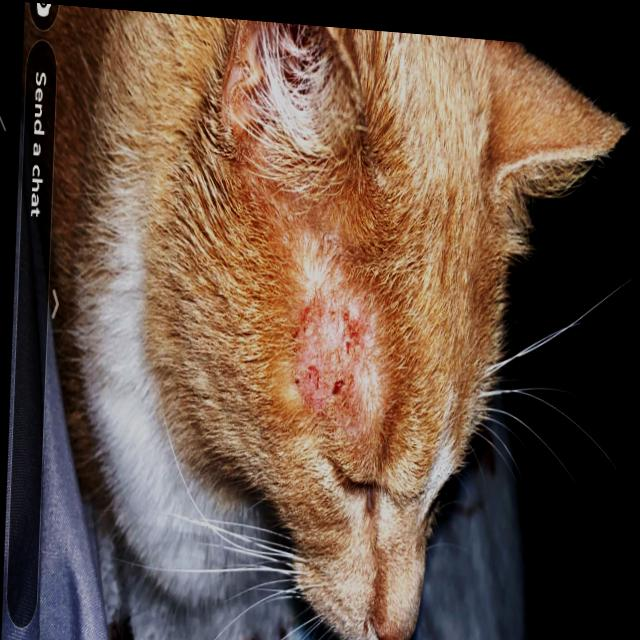ringworm: (290, 287, 360, 419)
